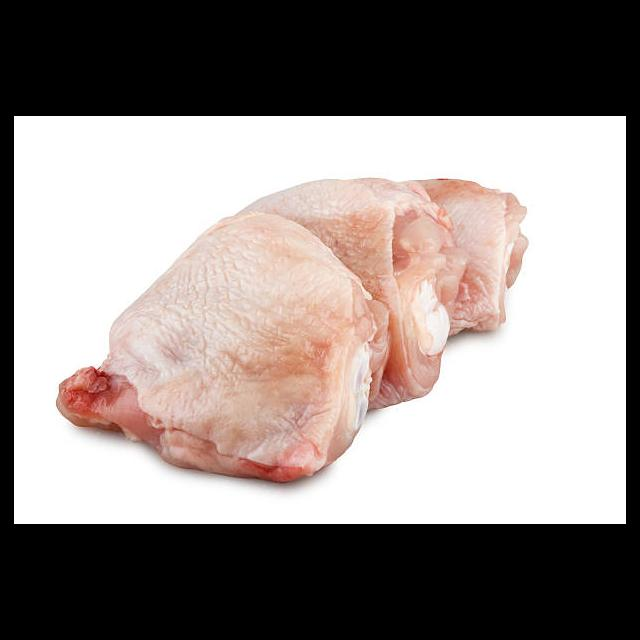chicken: (57, 174, 532, 481)
